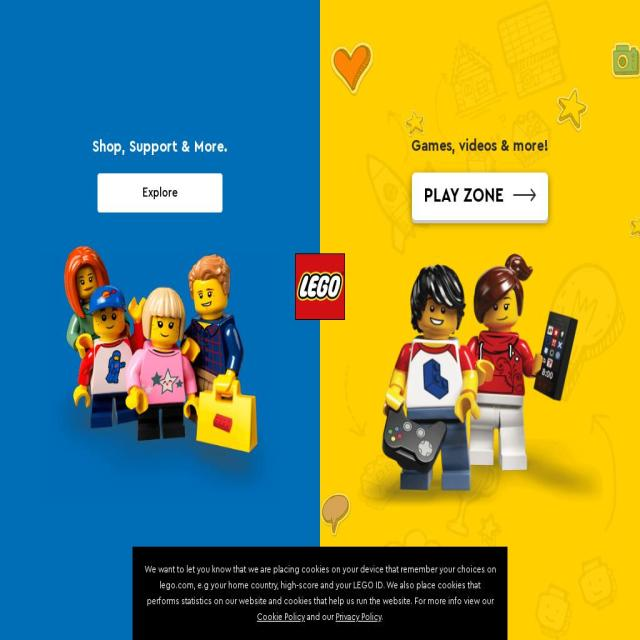button: (0, 139, 640, 406), (412, 172, 548, 221), (383, 439, 445, 533), (98, 174, 222, 214), (108, 439, 158, 518), (176, 439, 226, 518), (245, 439, 295, 518), (314, 439, 364, 518), (464, 439, 514, 518), (19, 573, 113, 615), (126, 573, 220, 615), (69, 311, 153, 350), (308, 7, 332, 40), (593, 0, 606, 47), (615, 0, 627, 47), (571, 0, 584, 42), (605, 65, 615, 78), (12, 27, 28, 35)
field: (12, 55, 628, 88)
heading: (19, 296, 621, 332), (92, 133, 228, 160), (411, 133, 549, 159), (69, 232, 208, 252)
image: (0, 139, 640, 406), (38, 246, 282, 507), (358, 253, 602, 508), (295, 253, 345, 320), (108, 439, 158, 493), (176, 439, 226, 493), (245, 439, 295, 493), (314, 439, 364, 493), (389, 439, 439, 493), (464, 439, 514, 493), (160, 97, 212, 138), (68, 197, 162, 215), (308, 7, 332, 40), (304, 377, 336, 385), (593, 14, 606, 31), (571, 13, 584, 29), (615, 14, 627, 31), (605, 65, 615, 78)
link: (124, 433, 190, 447), (19, 433, 84, 447), (257, 612, 305, 622), (336, 612, 381, 622), (440, 111, 480, 122)
text: (19, 464, 621, 548), (19, 354, 621, 396), (144, 564, 496, 606), (19, 412, 608, 426), (68, 268, 270, 296), (190, 433, 580, 447), (13, 613, 143, 639), (221, 111, 433, 122), (424, 186, 504, 207), (395, 506, 433, 532), (78, 320, 125, 341), (136, 587, 210, 600), (84, 433, 124, 447), (319, 506, 359, 516), (183, 506, 219, 516), (305, 612, 336, 622), (259, 506, 281, 516), (124, 506, 140, 516), (12, 27, 28, 35), (484, 506, 494, 516), (618, 31, 624, 47), (597, 31, 602, 47), (381, 612, 383, 622)
